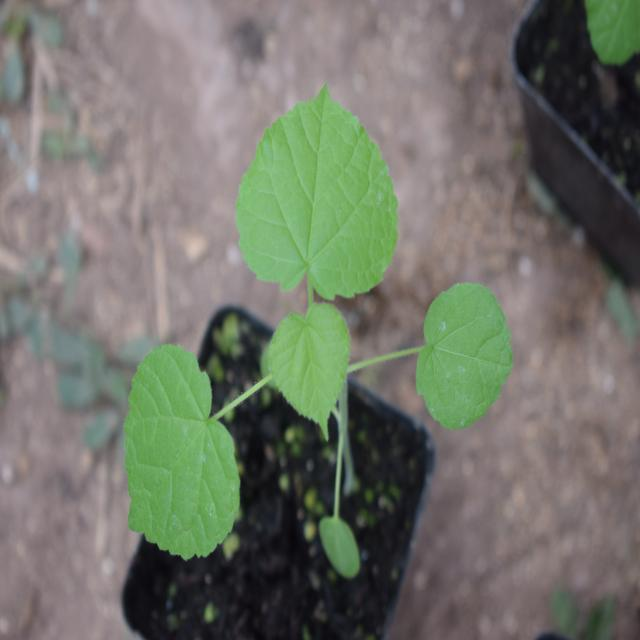abutilon theophrasti: (108, 91, 527, 582)
